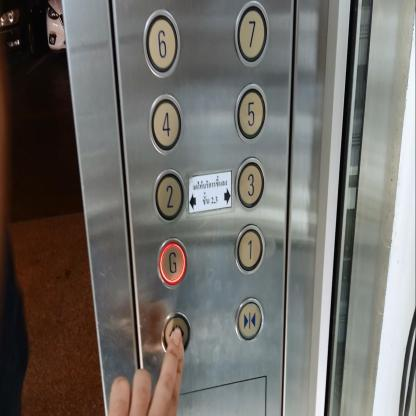1: (234, 220, 266, 278)
2: (152, 166, 186, 223)
3: (235, 153, 266, 212)
4: (146, 92, 185, 157)
5: (233, 81, 268, 145)
6: (142, 6, 182, 79)
7: (234, 0, 270, 68)
G: (155, 235, 188, 290)
close: (234, 294, 264, 344)
